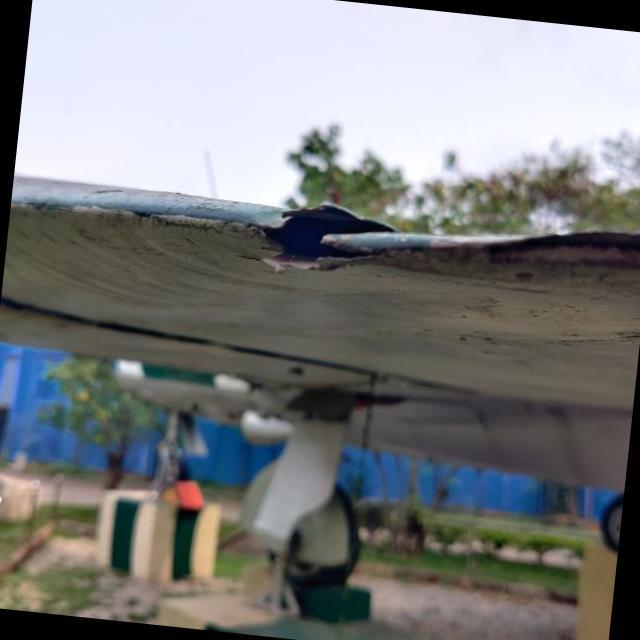Rupture: (228, 188, 413, 294)
